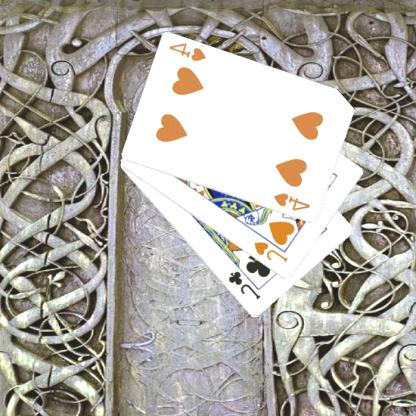4H: (273, 190, 313, 213), (168, 41, 209, 63)
JC: (227, 268, 263, 301)
JH: (253, 239, 291, 264)
